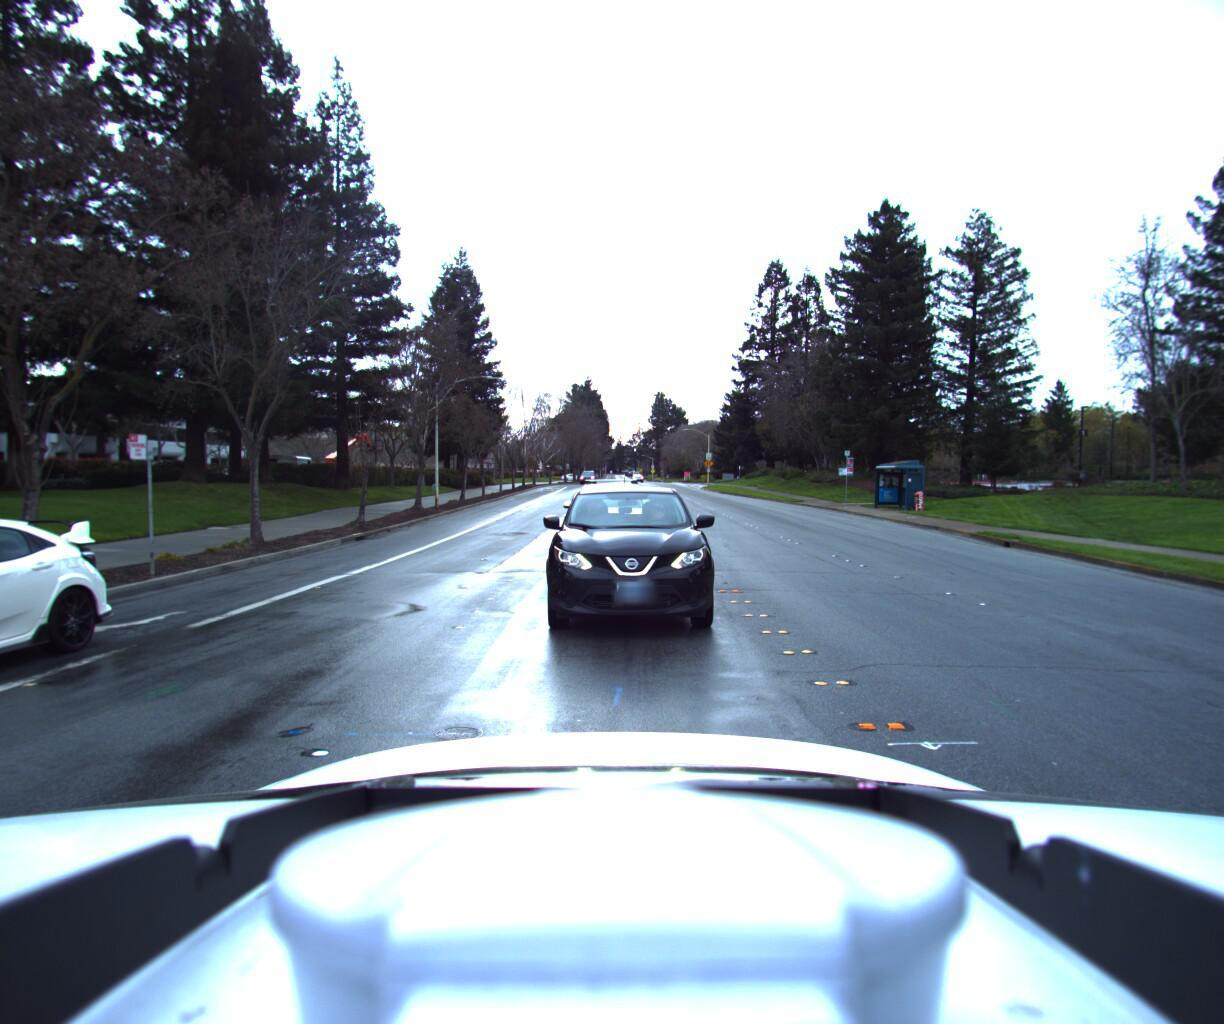car: (0, 503, 118, 781), (538, 486, 732, 648), (563, 479, 659, 563)
